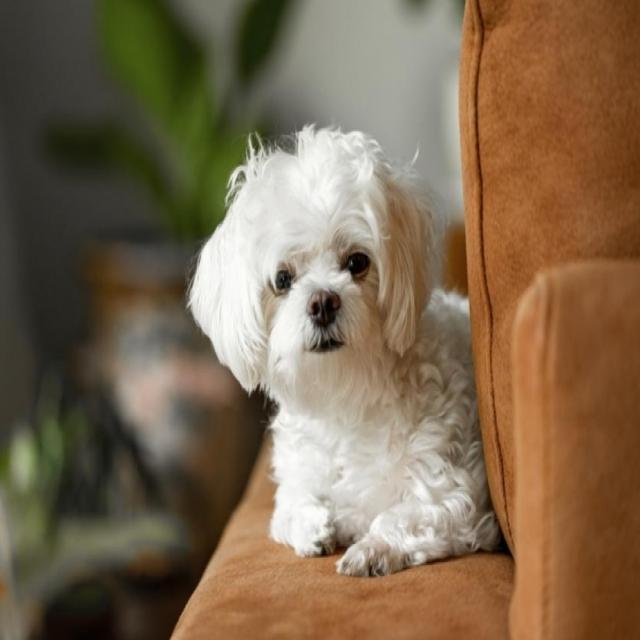dog: (160, 89, 532, 608)
